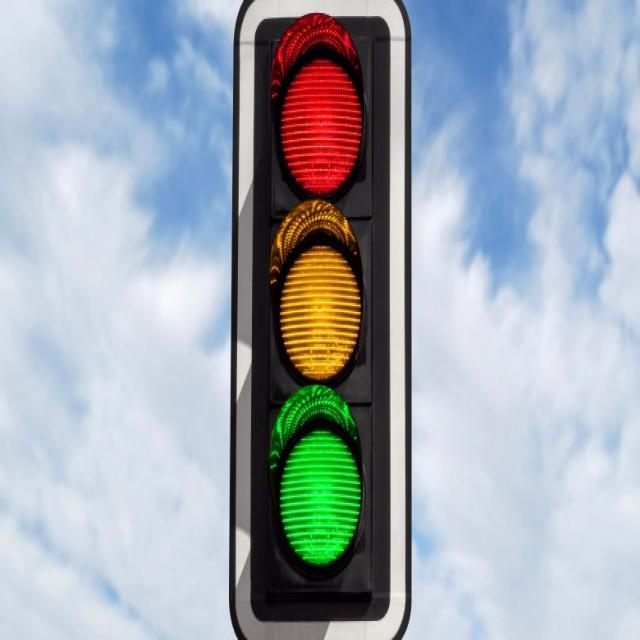green-lights: (272, 391, 362, 571)
red-lights: (268, 29, 374, 193)
yellow-lights: (267, 210, 364, 382)
